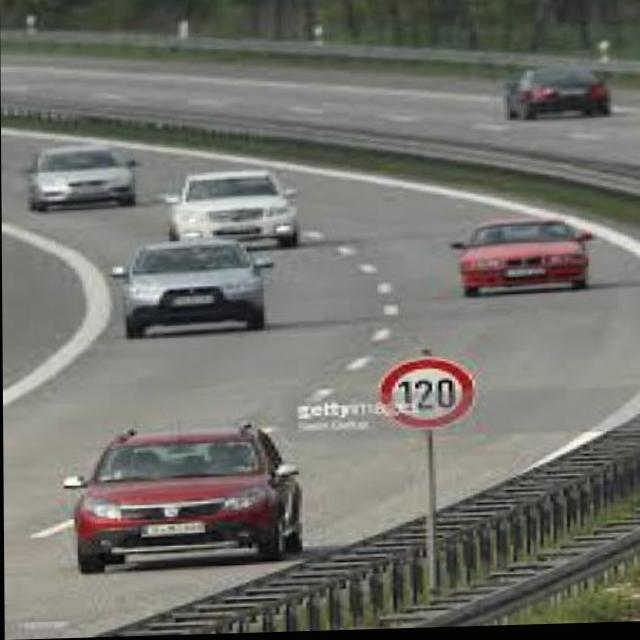limit120: (370, 357, 481, 435)
